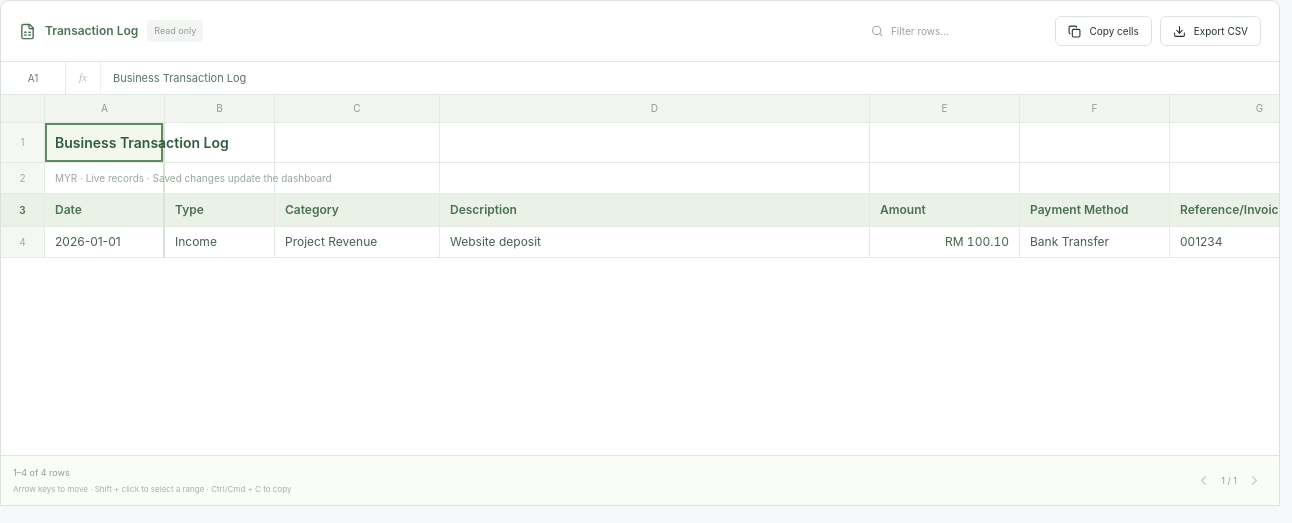
Test: requests the complete matching sheet for export rather than exporting only the visible page
Click the button "Export CSV". click: (1210, 31)
box: top-left (1160, 16), bottom-right (1261, 46)
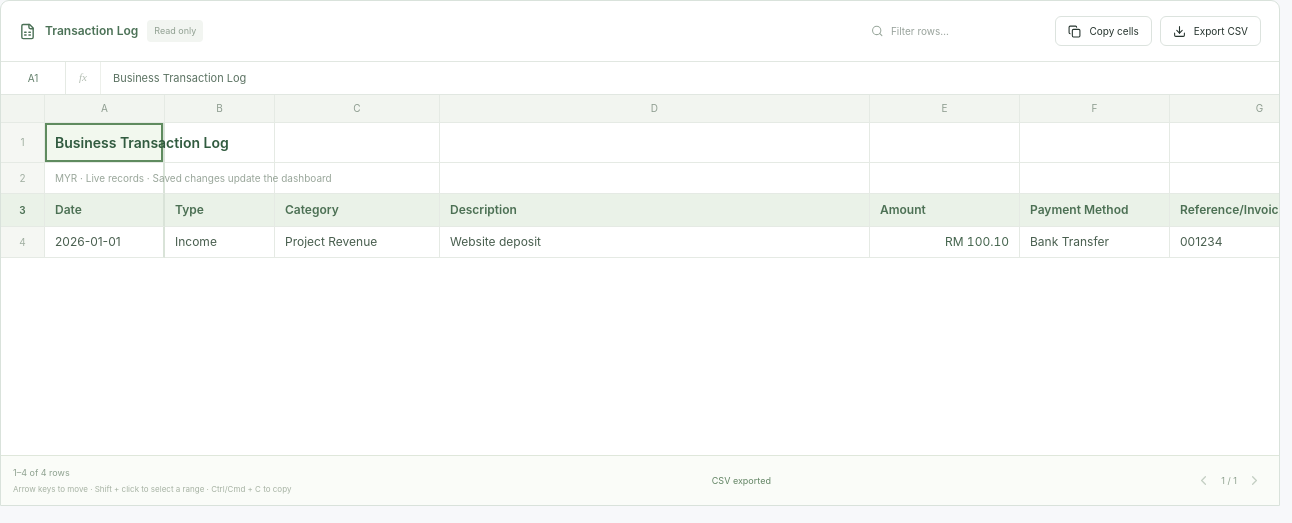
Check: the text "CSV exported" is shown, box top-left (712, 474), bottom-right (771, 487)
